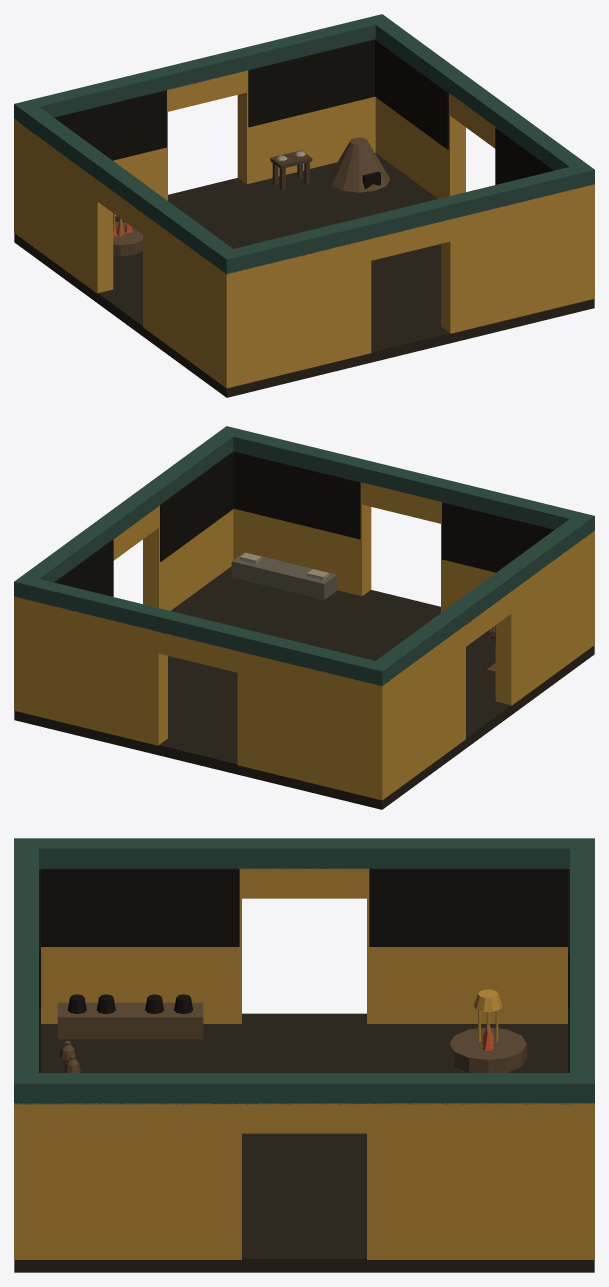
The model's file is BronzePalaceKitchen.fbx.
3 renders of one model, top to bottom at view 1: azimuth 30°, elevation 25°; view 2: azimuth 150°, elevation 25°; view 3: azimuth 270°, elevation 25°, orthographic. The views are drawn at different scales.
Parts seen in each view (by area): view 1: BronzePalaceKitchen; view 2: BronzePalaceKitchen; view 3: BronzePalaceKitchen.
Part boxes in pixels (x1=…): BronzePalaceKitchen: x1=14, y1=14, x2=594, y2=397; BronzePalaceKitchen: x1=14, y1=426, x2=594, y2=809; BronzePalaceKitchen: x1=14, y1=838, x2=594, y2=1272.
Size of the model in its own units: 1202 by 432 by 1202.
9 materials, 9 textured.
